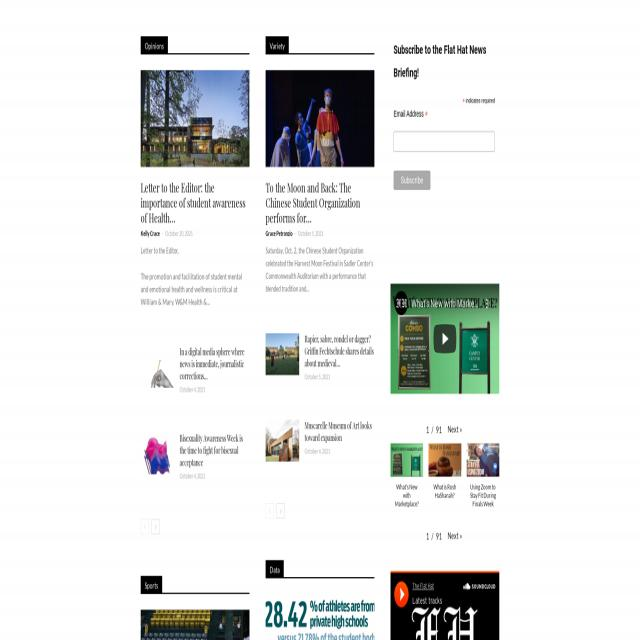button: (390, 282, 500, 394), (140, 70, 250, 168), (266, 70, 374, 168), (390, 570, 501, 640), (266, 333, 299, 375), (141, 346, 174, 388), (266, 420, 299, 461), (141, 433, 174, 474), (466, 442, 500, 478), (428, 443, 462, 477), (391, 443, 423, 477), (432, 324, 457, 354), (394, 170, 431, 190), (394, 291, 408, 315), (482, 292, 491, 314), (276, 503, 285, 519), (266, 503, 274, 519), (141, 519, 149, 534), (152, 519, 160, 534)
field: (394, 132, 495, 152)
